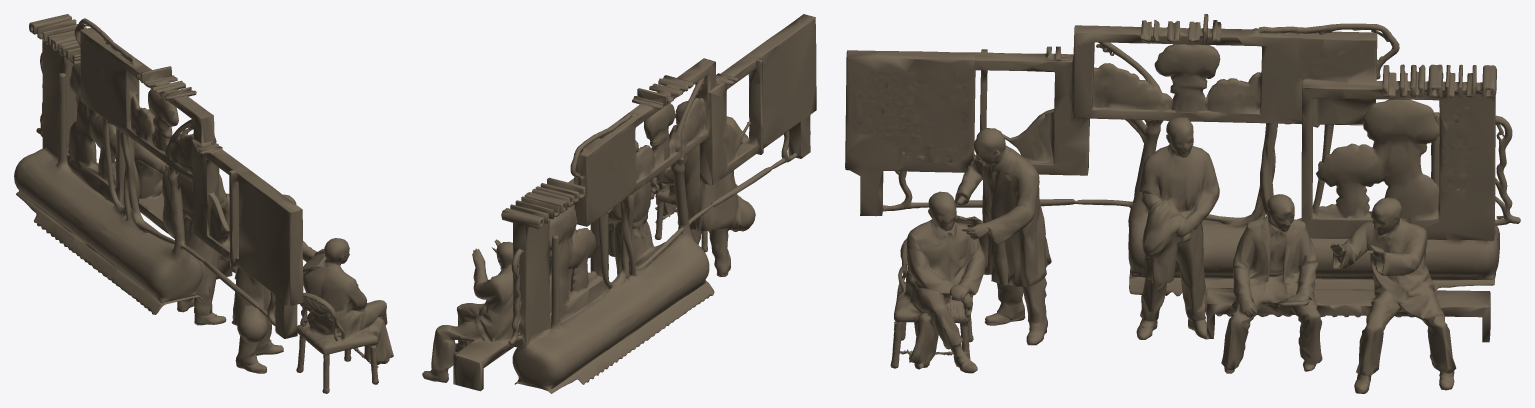
The model's file is space-scientists-h31.glb.
3 views of the same model, side by side, from view 1: azimuth 30°, elevation 25°; view 2: azimuth 150°, elevation 25°; view 3: azimuth 270°, elevation 25° (orthographic). The views are drawn at different scales.
Parts seen in each view (by area): view 1: tripo_node_0d95727f-535c-4d06-8af6-f8f696757dec; view 2: tripo_node_0d95727f-535c-4d06-8af6-f8f696757dec; view 3: tripo_node_0d95727f-535c-4d06-8af6-f8f696757dec.
Part boxes in pixels (bbox=[...]): tripo_node_0d95727f-535c-4d06-8af6-f8f696757dec: bbox=[14, 14, 393, 393]; tripo_node_0d95727f-535c-4d06-8af6-f8f696757dec: bbox=[422, 14, 816, 393]; tripo_node_0d95727f-535c-4d06-8af6-f8f696757dec: bbox=[845, 14, 1520, 393].
Size of the model in its own units: 2.07 by 2.85 by 5.96.
